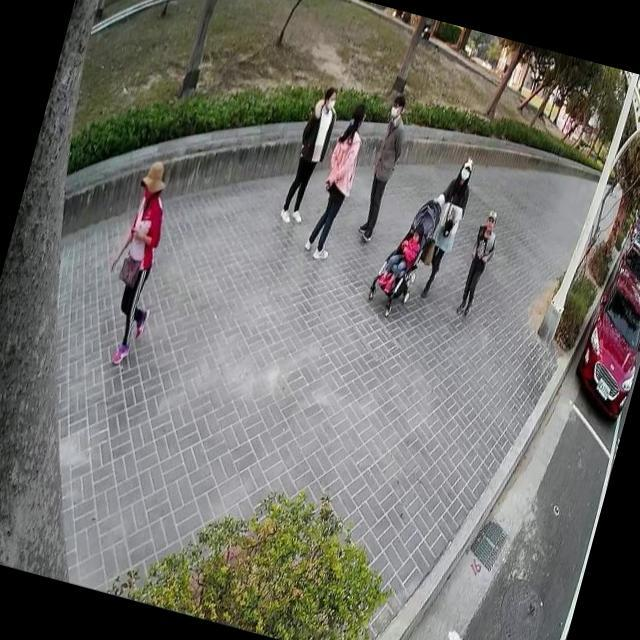person: (82, 148, 192, 374), (299, 91, 377, 268), (407, 144, 482, 306), (349, 86, 418, 249), (274, 77, 344, 230), (452, 201, 508, 323), (375, 212, 428, 298)
